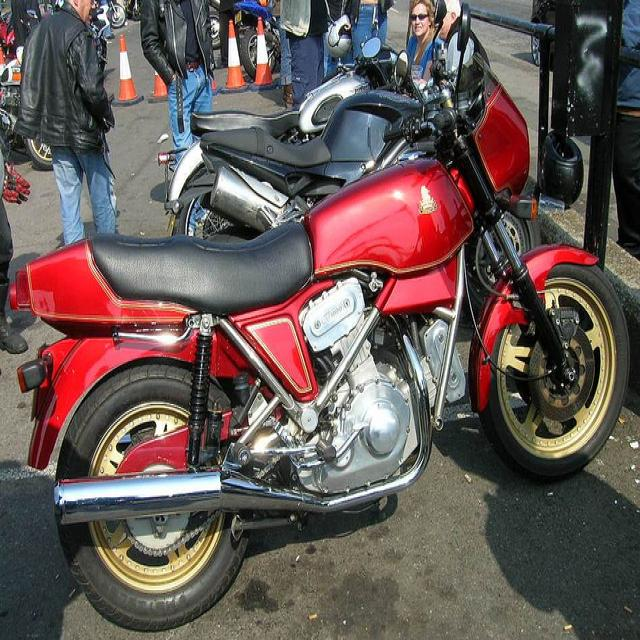motor: (7, 1, 629, 631), (158, 33, 423, 236)
